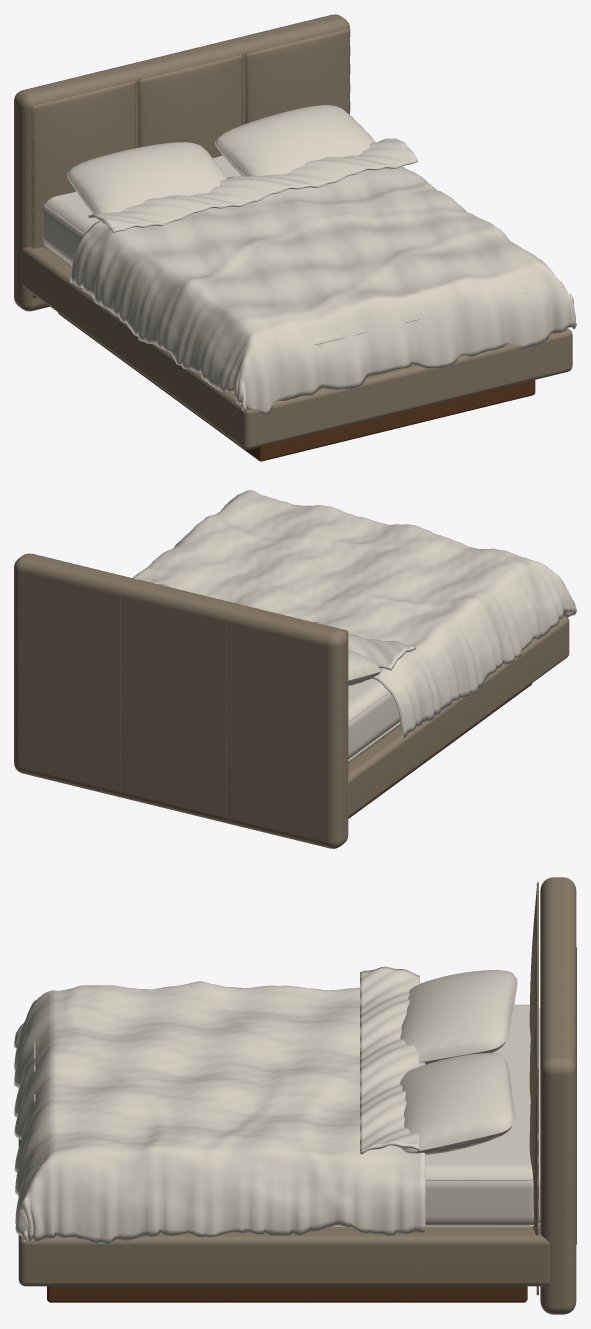
The model's file is upholstered-queen-bed.glb.
3 views of the same model, one above another, from view 1: azimuth 30°, elevation 25°; view 2: azimuth 150°, elevation 25°; view 3: azimuth 270°, elevation 25° (orthographic). The views are drawn at different scales.
Parts seen in each view (by area): view 1: ivory duvet with settled folds and draped skirt, padded foot rail, headboard upholstered rear shell, left padded side rail, sewn padded headboard panel, sewn padded headboard panel.001, linen pillow upper tailored surface, turned-back duvet edge, sewn padded headboard panel.002, linen pillow upper tailored surface.001, inset natural-oak plinth, rounded pocket-spring mattress; view 2: headboard upholstered rear shell, ivory duvet with settled folds and draped skirt, left padded side rail, rounded pocket-spring mattress, turned-back duvet edge, linen pillow upper tailored surface; view 3: ivory duvet with settled folds and draped skirt, right padded side rail, headboard upholstered rear shell, rounded pocket-spring mattress, turned-back duvet edge, linen pillow upper tailored surface.001, linen pillow upper tailored surface, inset natural-oak plinth, sewn padded headboard panel.002, padded foot rail, linen pillow lower tailored surface.001, sewn padded headboard panel (+1 smaller).
Boxes of the visible parts, box(x1,y1,x2,y2) form: ivory duvet with settled folds and draped skirt: box(70, 166, 576, 415); padded foot rail: box(237, 328, 572, 449); headboard upholstered rear shell: box(14, 14, 349, 311); left padded side rail: box(21, 247, 240, 444); sewn padded headboard panel: box(32, 80, 135, 297); sewn padded headboard panel.001: box(139, 54, 242, 157); linen pillow upper tailored surface: box(67, 142, 226, 213); turned-back duvet edge: box(88, 138, 417, 233); sewn padded headboard panel.002: box(246, 28, 349, 123); linen pillow upper tailored surface.001: box(216, 105, 375, 176); inset natural-oak plinth: box(58, 312, 535, 461); rounded pocket-spring mattress: box(42, 155, 412, 347); headboard upholstered rear shell: box(14, 553, 348, 848); ivory duvet with settled folds and draped skirt: box(133, 490, 576, 737); left padded side rail: box(348, 619, 565, 817); rounded pocket-spring mattress: box(348, 678, 399, 758); turned-back duvet edge: box(159, 584, 415, 670); linen pillow upper tailored surface: box(348, 649, 381, 679); ivory duvet with settled folds and draped skirt: box(14, 981, 424, 1244); right padded side rail: box(32, 1229, 549, 1286); headboard upholstered rear shell: box(540, 877, 576, 1314); rounded pocket-spring mattress: box(33, 1004, 540, 1225); turned-back duvet edge: box(360, 966, 420, 1154); linen pillow upper tailored surface.001: box(400, 1053, 514, 1150); linen pillow upper tailored surface: box(400, 970, 516, 1061); inset natural-oak plinth: box(47, 1286, 527, 1302); sewn padded headboard panel.002: box(529, 1006, 538, 1294); padded foot rail: box(18, 1088, 38, 1286); linen pillow lower tailored surface.001: box(404, 1127, 511, 1154); sewn padded headboard panel: box(529, 882, 538, 1035).
Size of the model in its own units: 1.81 by 1.1 by 2.19.
Materials: 3 (3 with a texture image).
